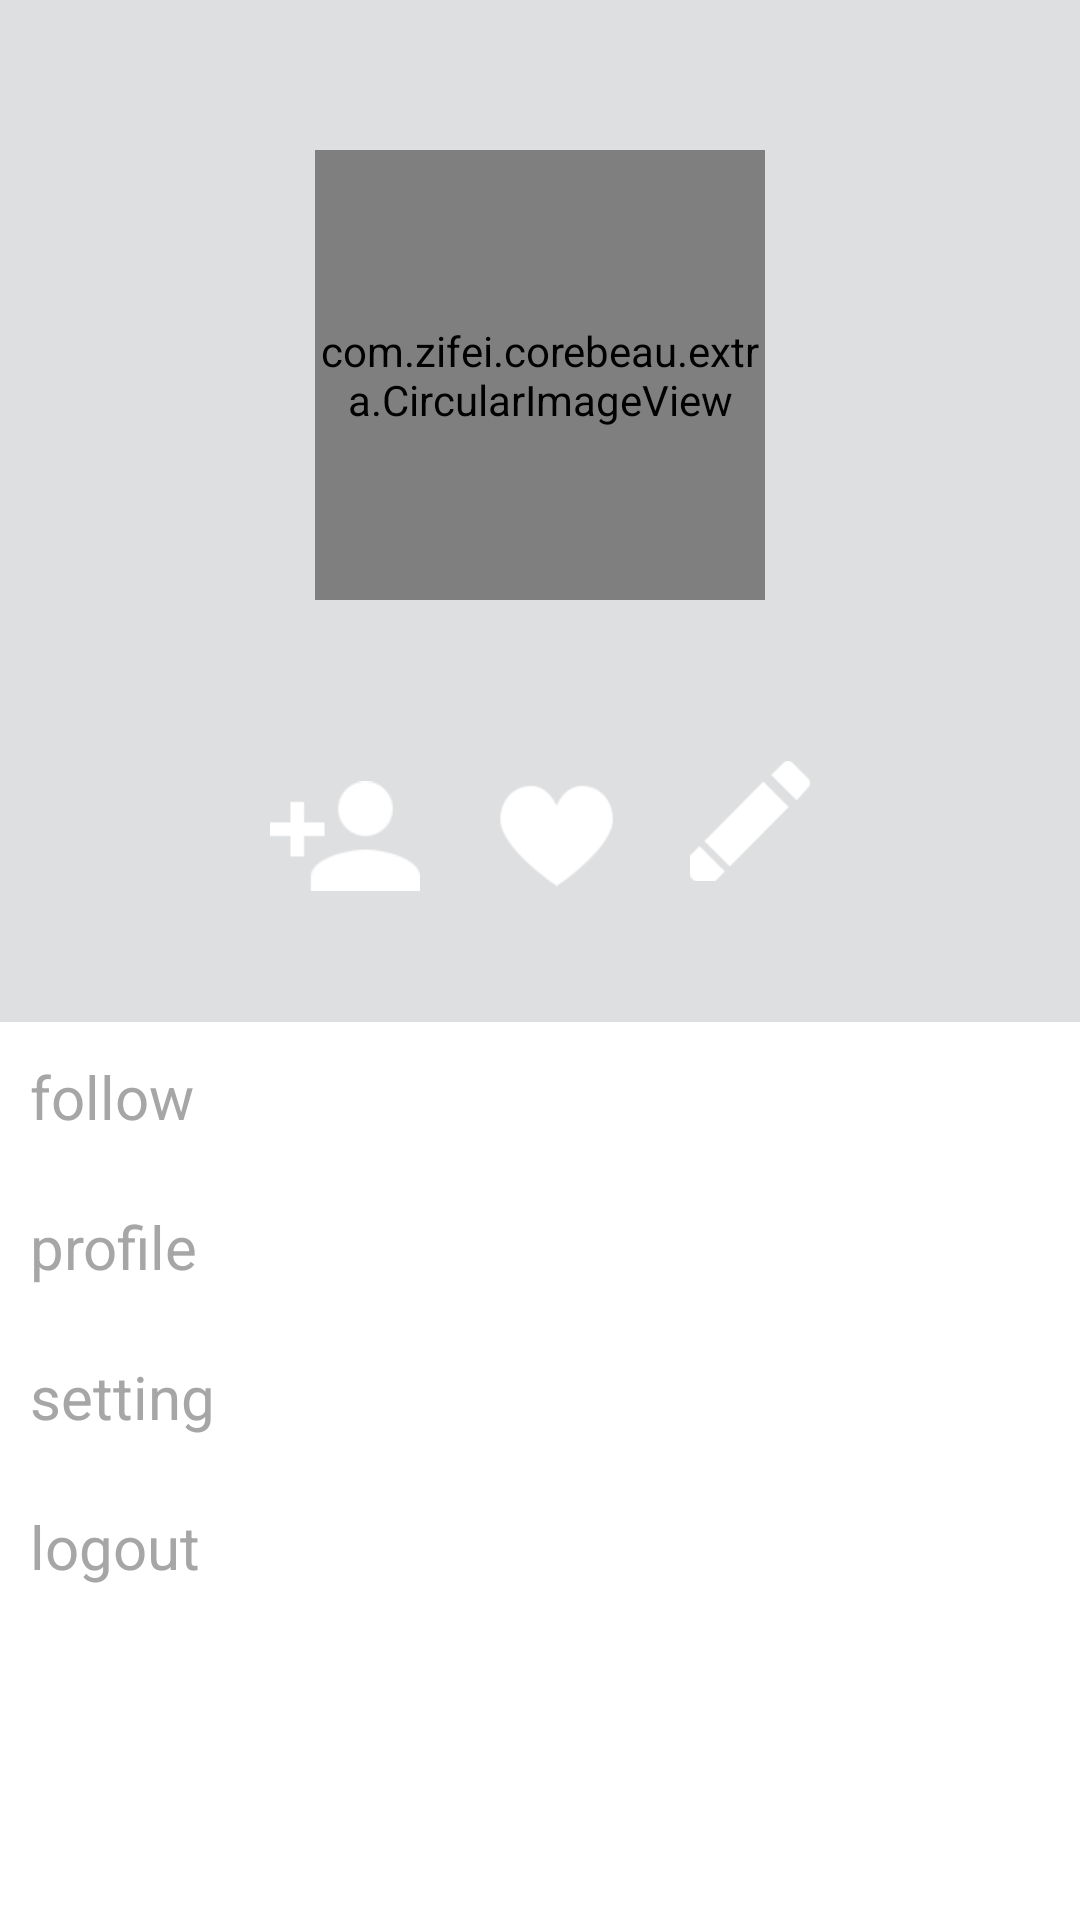

Icons on this 1080px×1920px Android screen, each with the point to tap as [x,y]:
mypage like cnt: [556,835]
